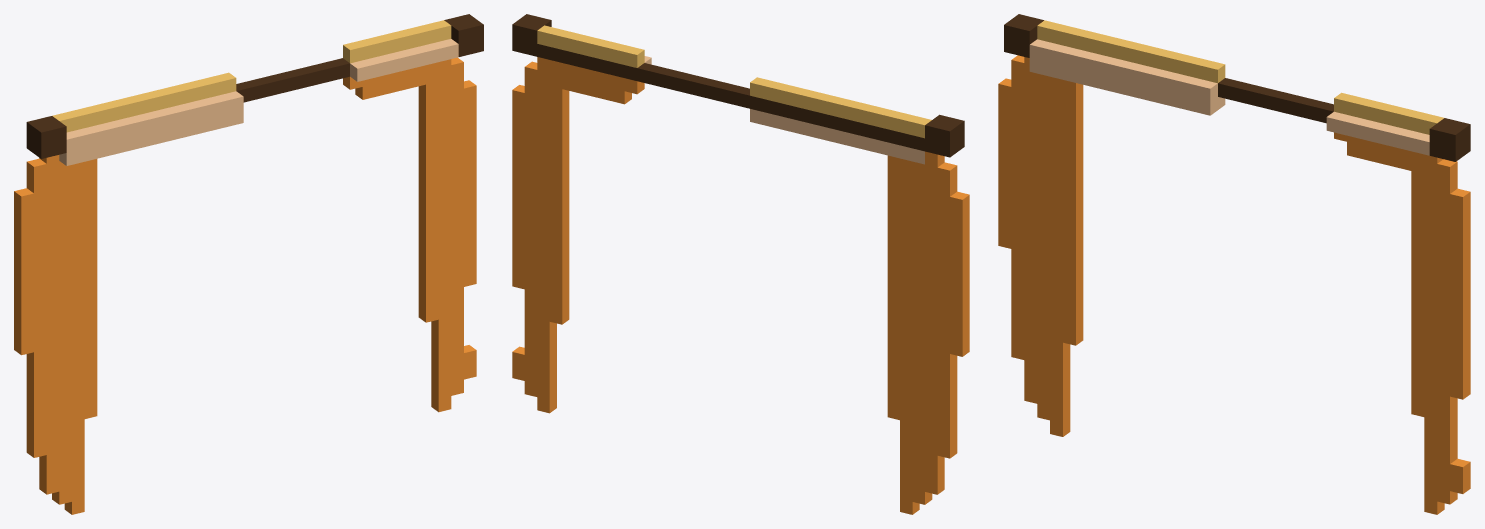
The model's file is Window.obj.
3 renders of one model, left to right at view 1: azimuth 30°, elevation 25°; view 2: azimuth 150°, elevation 25°; view 3: azimuth 330°, elevation 25°, orthographic. The views are drawn at different scales.
Size of the model in its own units: 3.6 by 3 by 0.2.
1 material, 1 textured.
